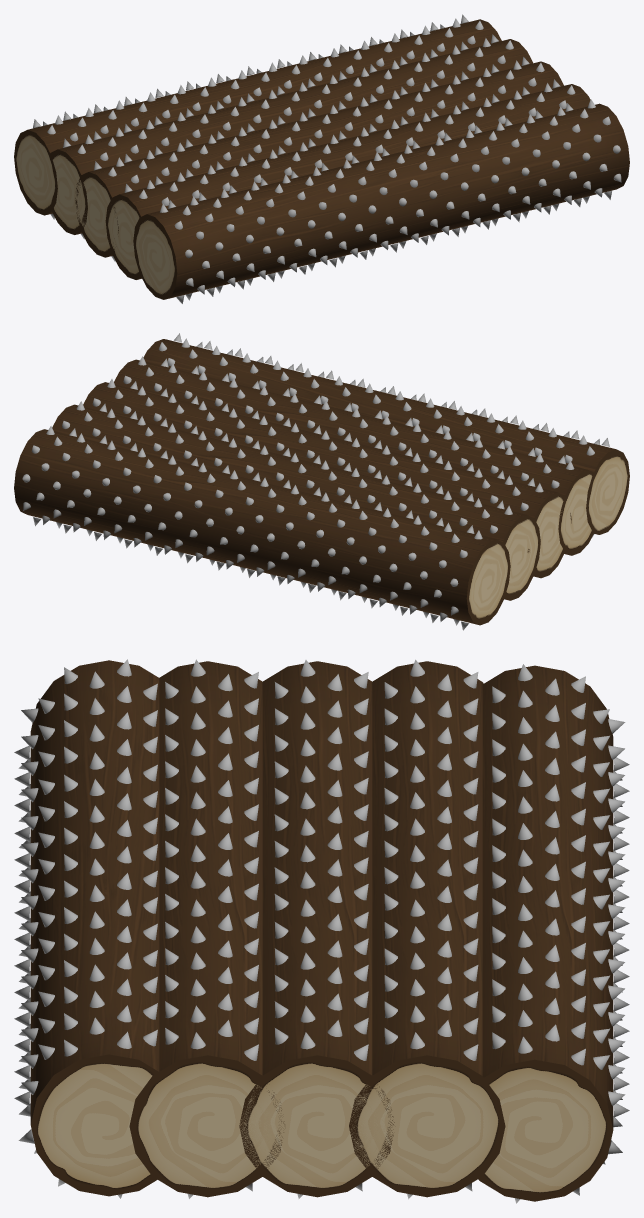
The model's file is Spike_log_wall.fbx.
The picture shows the model from 3 angles, top to bottom: view 1: azimuth 30°, elevation 25°; view 2: azimuth 150°, elevation 25°; view 3: azimuth 270°, elevation 25°; orthographic projection. The views are drawn at different scales.
Visible parts, largest first — view 1: Spike_log_wall; view 2: Spike_log_wall; view 3: Spike_log_wall.
Part boxes in pixels (x1,y1,x2,y2): Spike_log_wall: (14,14,629,303); Spike_log_wall: (14,333,629,630); Spike_log_wall: (14,659,629,1203).
Size of the model in its own units: 595 by 123 by 393.
